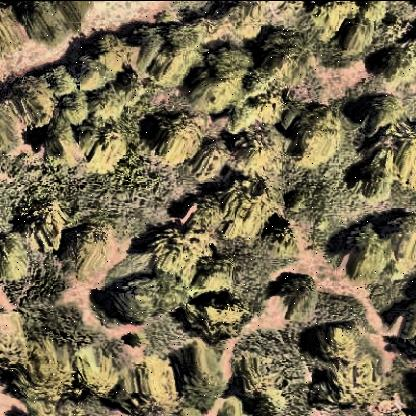tree-top: (187, 38, 253, 120), (306, 2, 392, 64), (303, 359, 389, 416), (143, 219, 213, 289), (336, 211, 393, 296), (247, 22, 311, 96), (215, 171, 277, 247), (281, 99, 341, 176), (58, 213, 118, 287), (4, 347, 68, 416), (144, 109, 208, 175), (182, 285, 248, 347), (107, 266, 165, 334), (261, 269, 321, 333), (75, 30, 129, 98), (122, 351, 178, 416), (175, 351, 225, 416), (18, 188, 64, 258), (227, 122, 287, 175), (70, 353, 119, 416), (82, 117, 129, 181), (184, 130, 232, 188), (312, 317, 365, 368), (383, 210, 416, 280), (9, 78, 56, 126)
